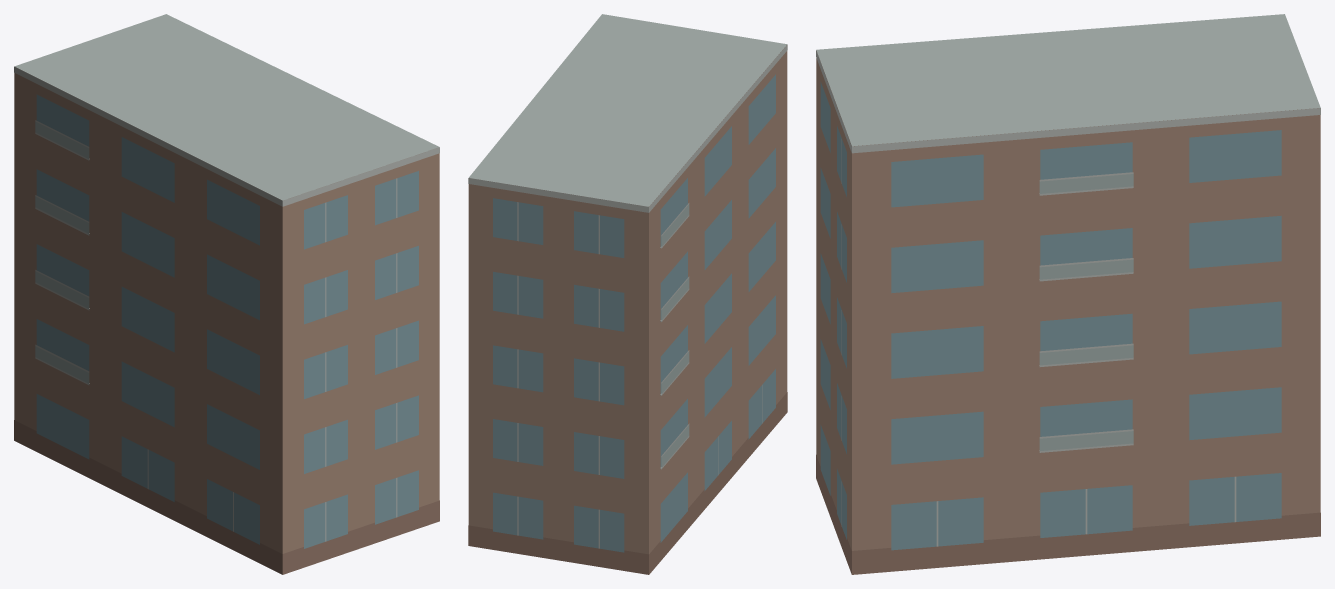
File: survey-upis-32533007.glb
3 renders of one model, left to right at view 1: azimuth 30°, elevation 25°; view 2: azimuth 150°, elevation 25°; view 3: azimuth 270°, elevation 25°, orthographic. The views are drawn at different scales.
Parts seen in each view (by area): view 1: survey-upis-32533007.tmp; view 2: survey-upis-32533007.tmp; view 3: survey-upis-32533007.tmp.
Boxes of the visible parts, bbox=[...] form: survey-upis-32533007.tmp: bbox=[14, 14, 439, 574]; survey-upis-32533007.tmp: bbox=[468, 14, 787, 574]; survey-upis-32533007.tmp: bbox=[816, 14, 1320, 574].
Size of the model in its own units: 9.81 by 14.8 by 15.8.
